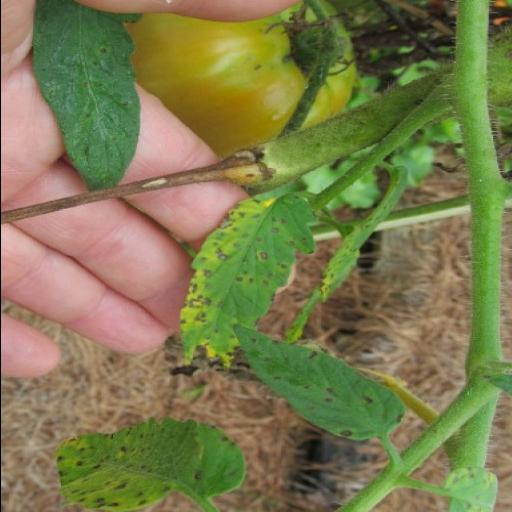disease_tomato: (170, 186, 316, 370), (226, 318, 400, 442), (30, 0, 144, 188), (52, 418, 248, 505)
